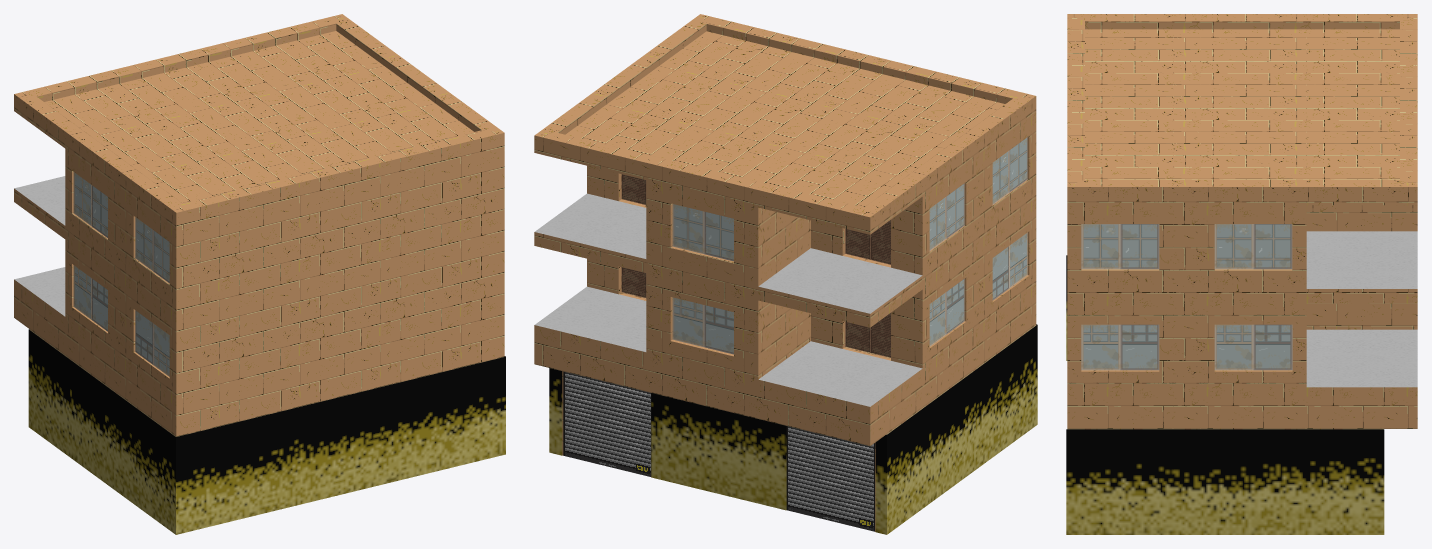
The model's file is EgyptBuilding3.fbx.
3 renders of one model, left to right at view 1: azimuth 30°, elevation 25°; view 2: azimuth 150°, elevation 25°; view 3: azimuth 270°, elevation 25°, orthographic. The views are drawn at different scales.
Parts seen in each view (by area): view 1: Building 3, Cube.079; view 2: Building 3, Cube.079; view 3: Building 3, Cube.079.
Part boxes in pixels (x1,y1,x2,y2): Building 3: [14, 14, 504, 436]; Cube.079: [28, 329, 505, 534]; Building 3: [534, 14, 1036, 531]; Cube.079: [549, 324, 1037, 534]; Building 3: [1067, 14, 1417, 429]; Cube.079: [1066, 255, 1384, 534].
Size of the model in its own units: 763 by 711 by 652.
